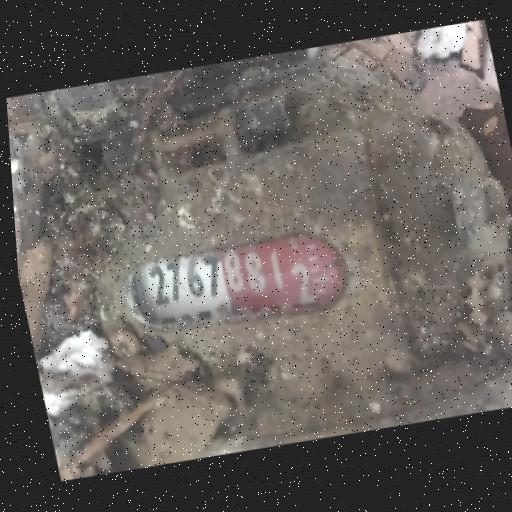1: (260, 239, 296, 312)
2: (280, 234, 323, 311), (144, 261, 177, 326)
6: (180, 254, 214, 323)
7: (196, 248, 234, 323), (161, 257, 195, 324)
8: (238, 241, 276, 316), (218, 245, 255, 318)
border_water_meter_number: (112, 219, 357, 339)
